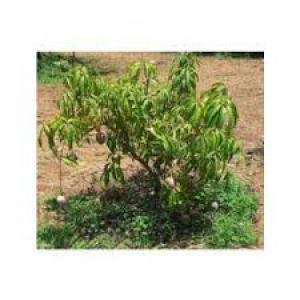Tree: (39, 52, 240, 228)
